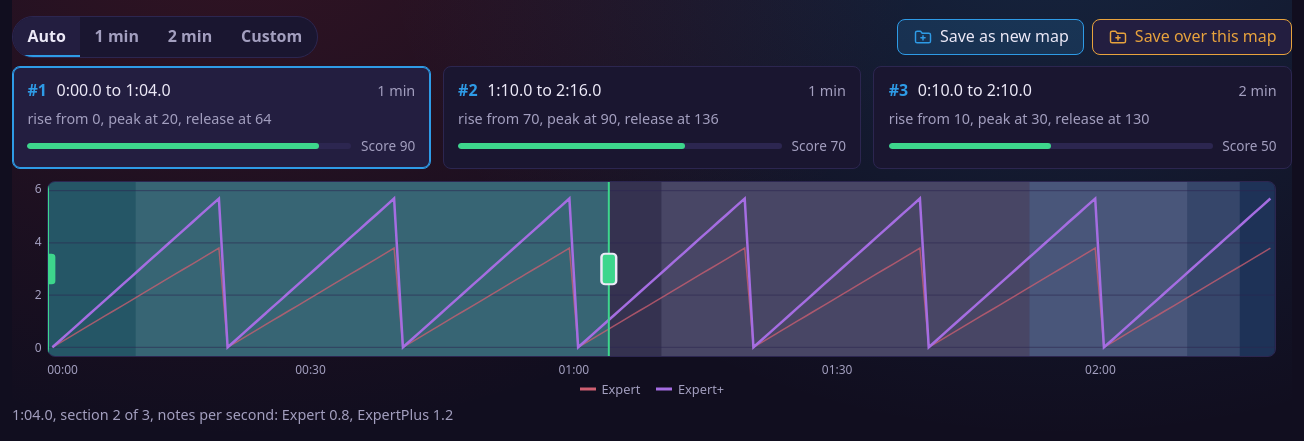
it: CropPanel › Reset to suggestion appears after an edit and restores the suggestion
This screenshot has width=1304, height=441.
Check: the slider labelled "Crop end" is shown, box [602,182,616,356]
Check: the button "Reset to suggestion" is not shown
Press Arrowleft
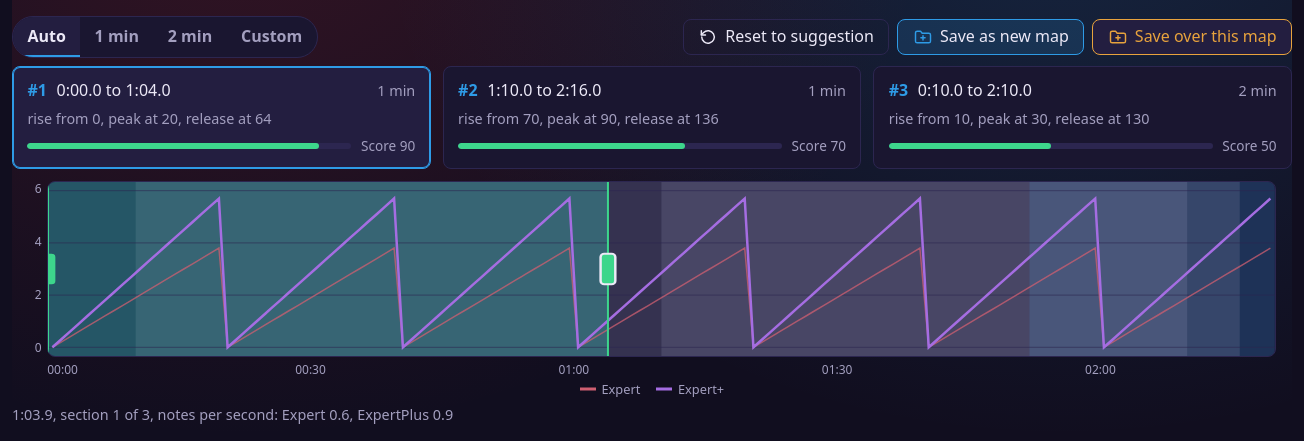
Click the button "Reset to suggestion".
click(786, 37)  # box [683,19,889,55]
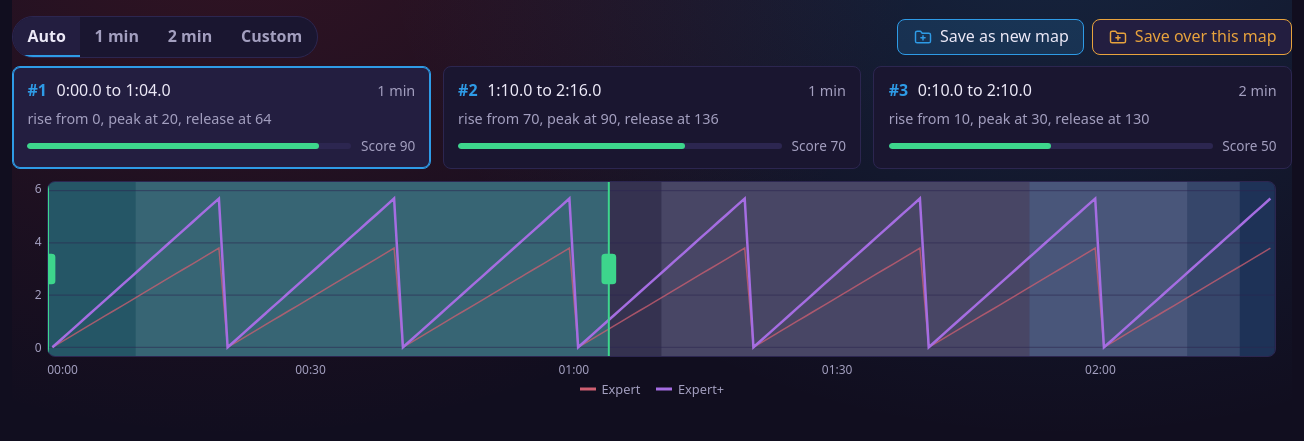
Check: the button "Reset to suggestion" is gone
